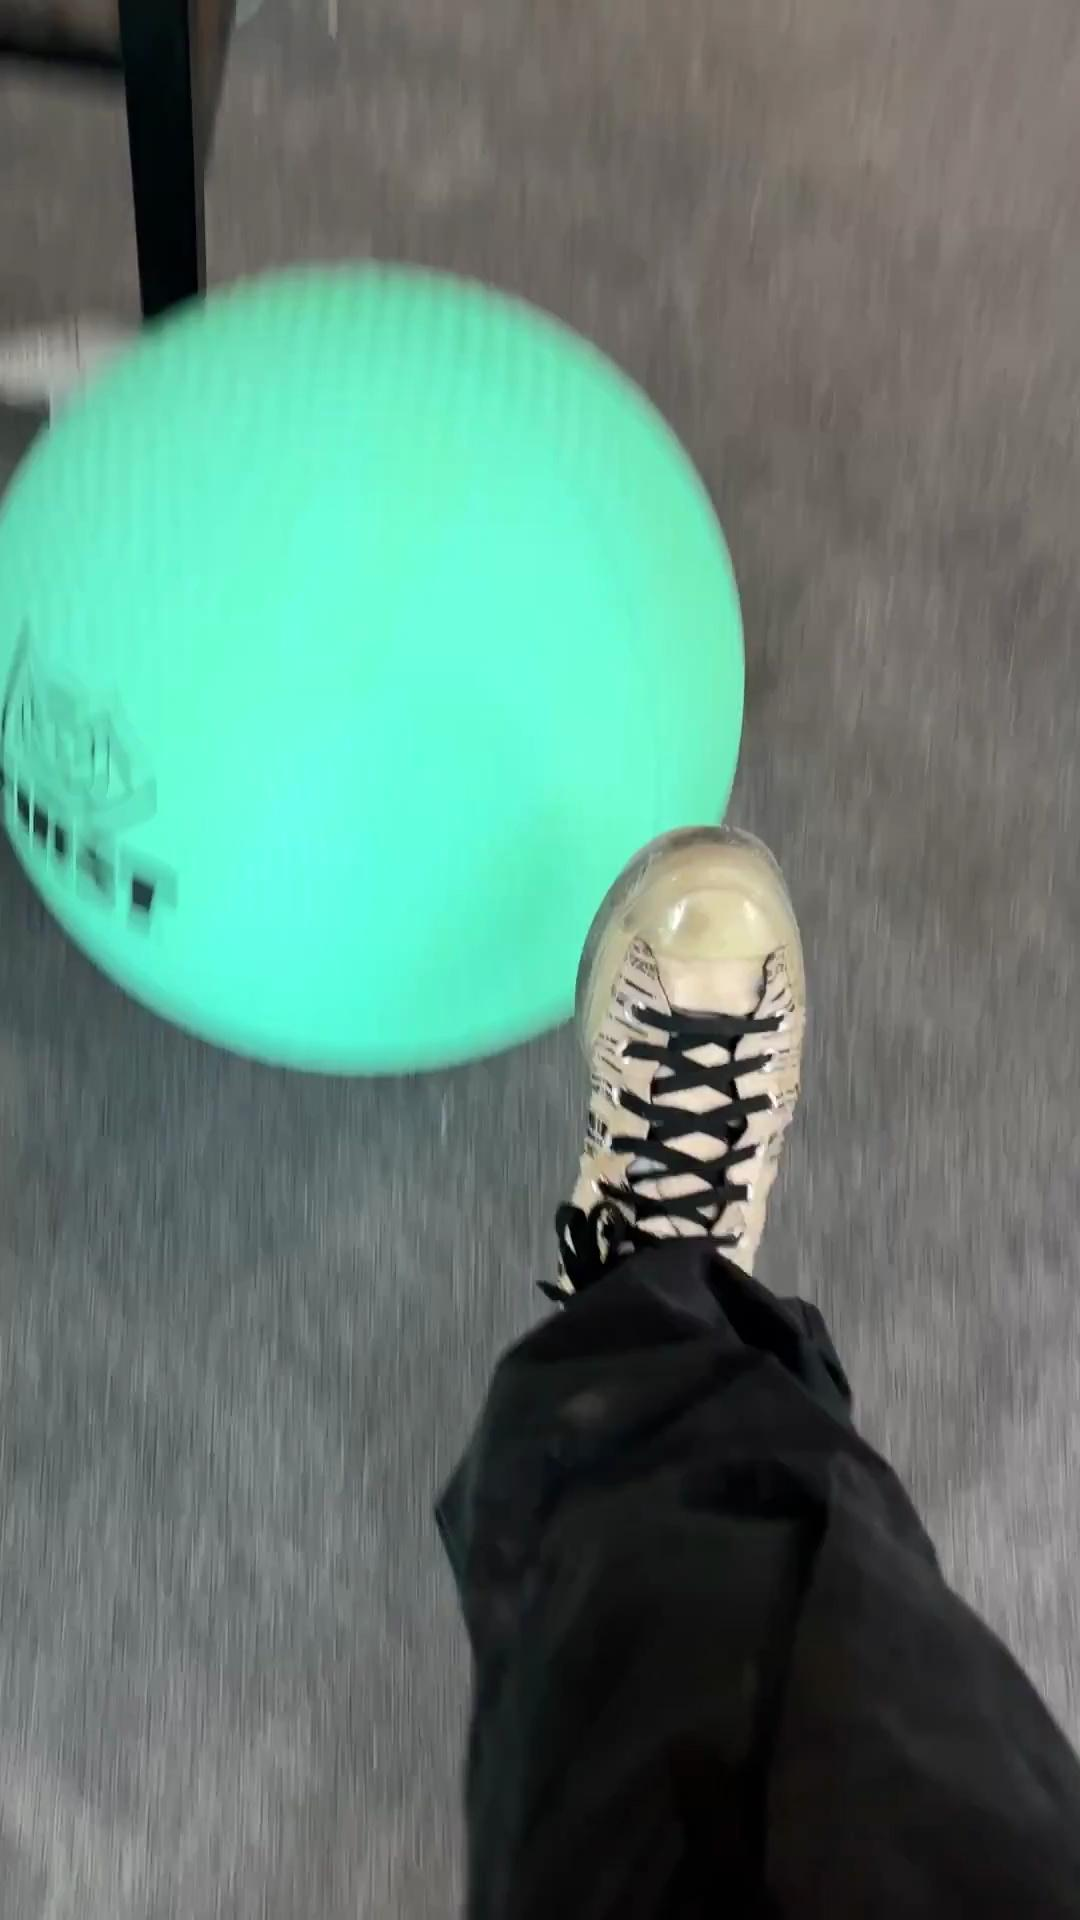ALGAE: (1, 255, 748, 1080)
